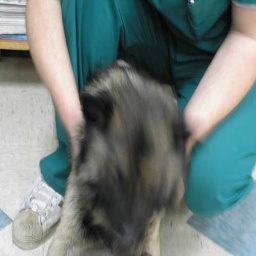dog: (56, 63, 185, 256)
